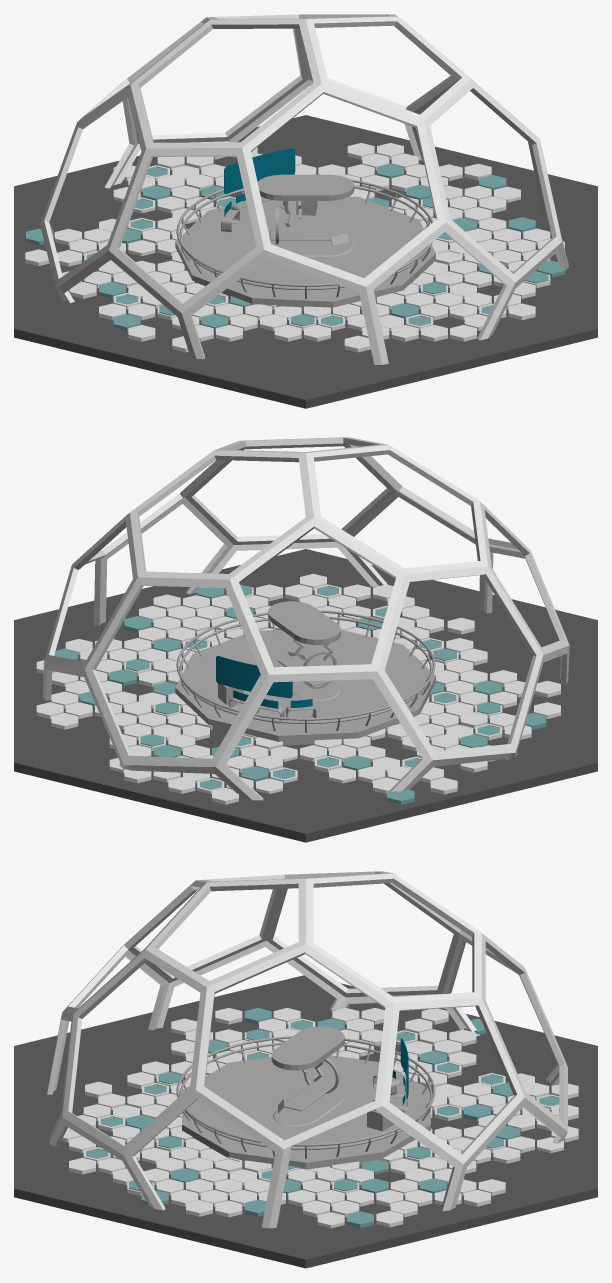
The picture shows the model from 3 angles, top to bottom: view 1: azimuth 30°, elevation 25°; view 2: azimuth 150°, elevation 25°; view 3: azimuth 270°, elevation 25°; orthographic projection.
Parts seen in each view (by area): view 1: floor, dom, pCylinder1, RE_S3:pCylinder5, RE_S3:screen7, pTorus2, RE_S3:pCylinder4, pTorus1, RE_S3:pCube1; view 2: floor, dom, pCylinder1, RE_S3:pCylinder5, RE_S3:screen7, pTorus2, pTorus1, RE_S3:pCylinder4; view 3: floor, dom, pCylinder1, RE_S3:pCylinder5, pTorus2, RE_S3:pCylinder4, pTorus1, RE_S3:pCube1.
Part boxes in pixels (<box>): floor: <box>14,115,597,408</box>; dom: <box>40,14,568,364</box>; pCylinder1: <box>175,196,435,311</box>; RE_S3:pCylinder5: <box>257,174,354,200</box>; RE_S3:screen7: <box>224,148,295,194</box>; pTorus2: <box>176,179,433,286</box>; RE_S3:pCylinder4: <box>270,240,353,256</box>; pTorus1: <box>179,186,429,289</box>; RE_S3:pCube1: <box>269,229,339,240</box>; floor: <box>14,549,597,842</box>; dom: <box>43,437,569,800</box>; pCylinder1: <box>175,629,435,745</box>; RE_S3:pCylinder5: <box>268,601,340,645</box>; RE_S3:screen7: <box>216,656,292,698</box>; pTorus2: <box>176,610,435,720</box>; pTorus1: <box>179,616,432,723</box>; RE_S3:pCylinder4: <box>274,664,339,700</box>; floor: <box>14,975,597,1268</box>; dom: <box>47,871,567,1228</box>; pCylinder1: <box>182,1055,430,1169</box>; RE_S3:pCylinder5: <box>271,1026,344,1070</box>; pTorus2: <box>176,1036,435,1146</box>; RE_S3:pCylinder4: <box>272,1090,343,1126</box>; pTorus1: <box>179,1042,432,1149</box>; RE_S3:pCube1: <box>284,1080,334,1111</box>.
Size of the model in its own units: 7547 by 3130 by 6536.
